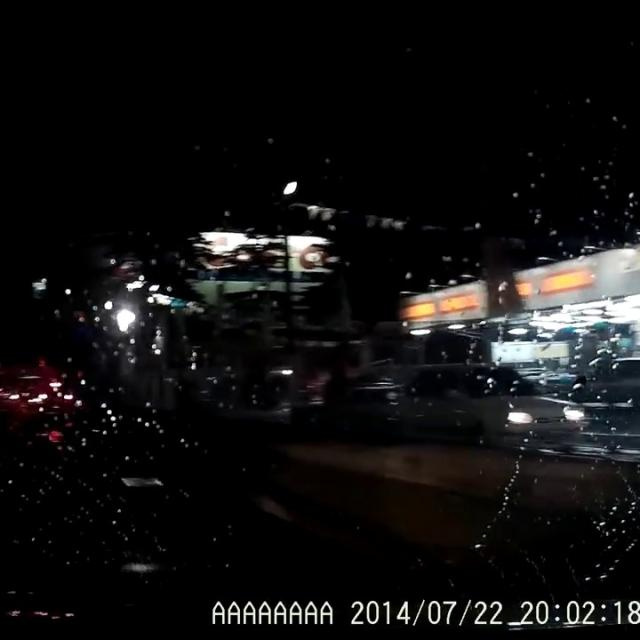Car: (392, 360, 586, 450), (563, 356, 639, 407)
